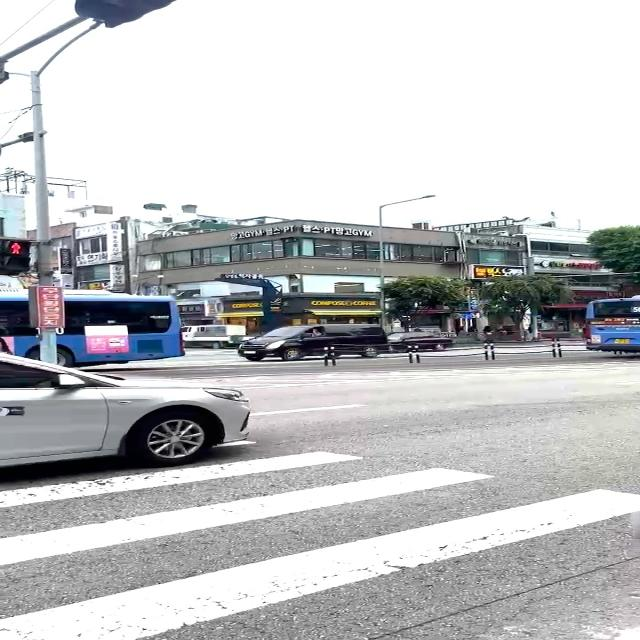building: (130, 216, 464, 340)
car: (0, 351, 252, 468)
